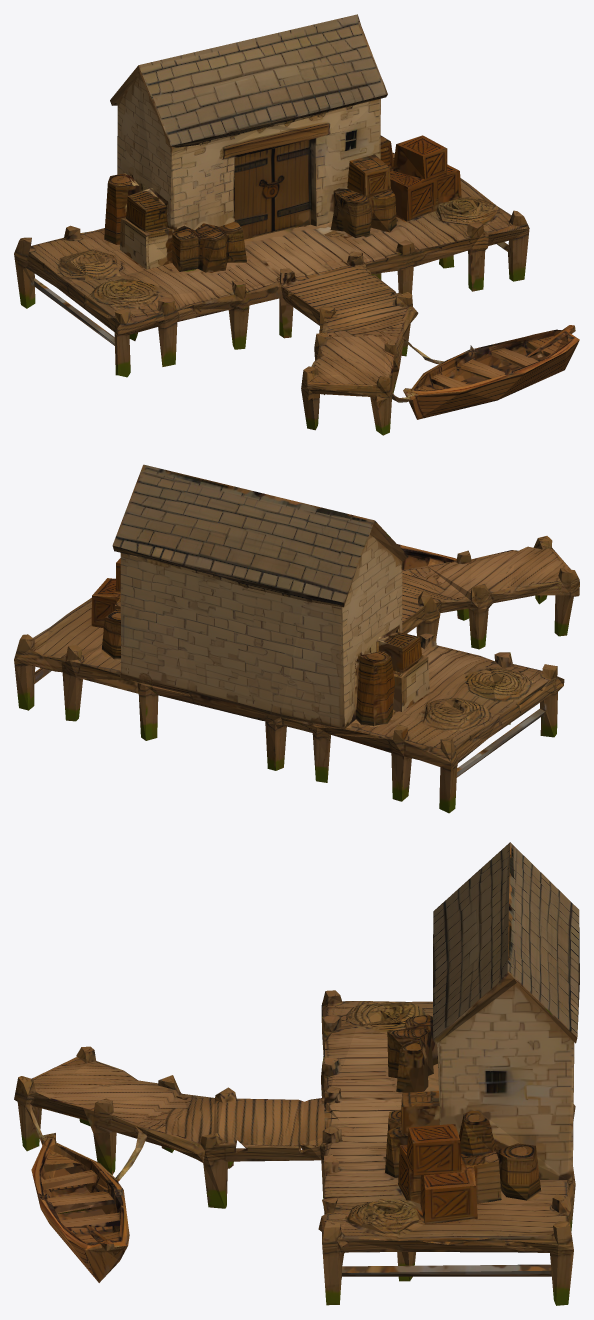
File: dock.glb
3 renders of one model, top to bottom at view 1: azimuth 30°, elevation 25°; view 2: azimuth 150°, elevation 25°; view 3: azimuth 270°, elevation 25°, orthographic. The views are drawn at different scales.
Parts seen in each view (by area): view 1: textured_mesh.obj; view 2: textured_mesh.obj; view 3: textured_mesh.obj.
Part boxes in pixels (x1,y1,x2,y2): textured_mesh.obj: [14, 14, 579, 435]; textured_mesh.obj: [14, 464, 579, 813]; textured_mesh.obj: [14, 842, 579, 1305].
Size of the model in its own units: 1.96 by 1.1 by 1.94.
1 material, 1 textured.
